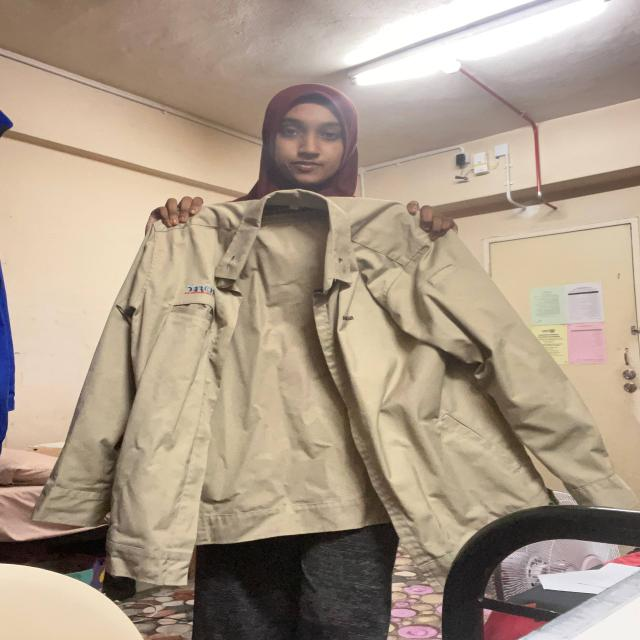person_without_labcoat: (34, 84, 634, 640)
